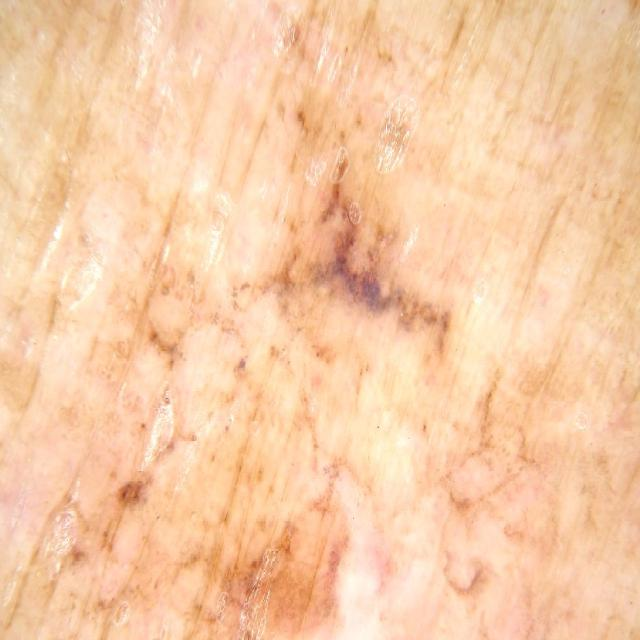Melanoma: (22, 163, 595, 640)
